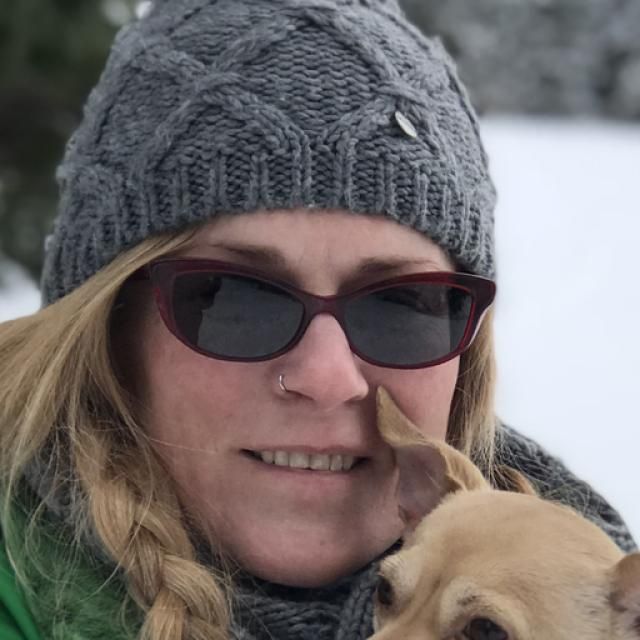disgust: (142, 204, 466, 586)
